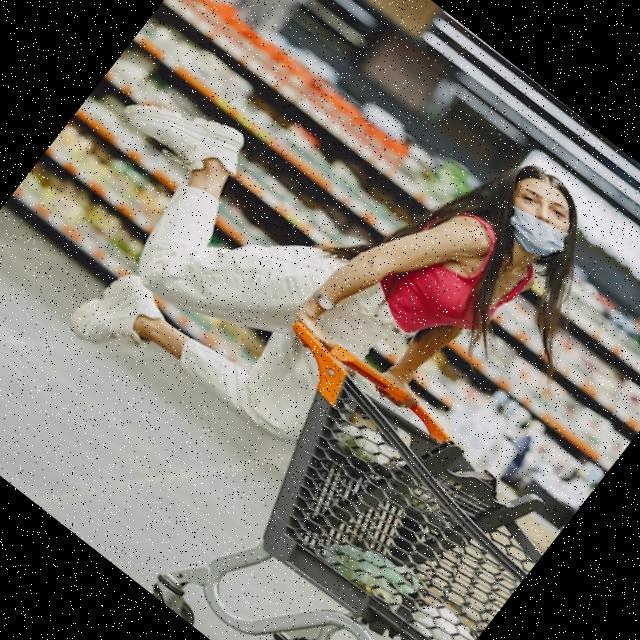Person: (0, 0, 640, 585)
